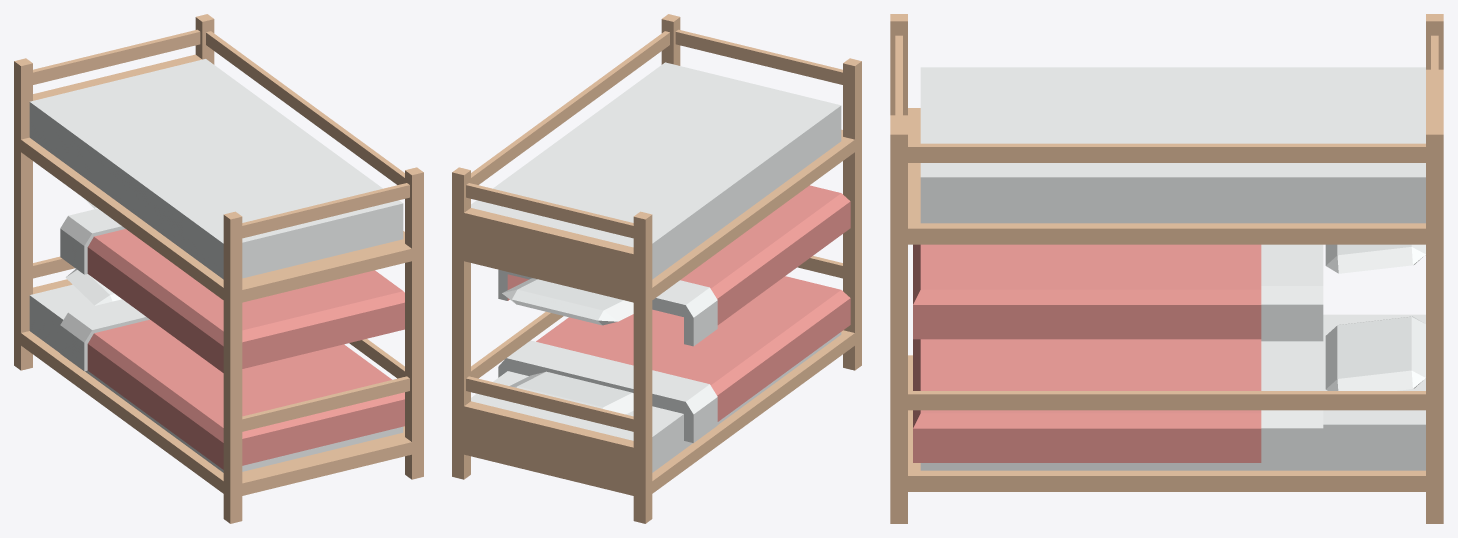
File: bedBunk.glb
The picture shows the model from 3 angles, left to right: view 1: azimuth 30°, elevation 25°; view 2: azimuth 150°, elevation 25°; view 3: azimuth 270°, elevation 25°; orthographic projection. The views are drawn at different scales.
Parts seen in each view (by area): view 1: bedBunk(Clone), coverBottom, coverTop, pillowBottom; view 2: bedBunk(Clone), coverBottom, coverTop, pillowTop, pillowBottom; view 3: bedBunk(Clone), coverBottom, coverTop, pillowBottom, pillowTop.
Part boxes in pixels (x1=…): bedBunk(Clone): x1=14, y1=14, x2=423, y2=523; coverBottom: x1=60, y1=299, x2=404, y2=469; coverTop: x1=60, y1=208, x2=404, y2=372; pillowBottom: x1=65, y1=269, x2=121, y2=305; bedBunk(Clone): x1=452, y1=14, x2=861, y2=523; coverBottom: x1=498, y1=276, x2=850, y2=442; coverTop: x1=498, y1=185, x2=850, y2=346; pillowTop: x1=502, y1=278, x2=633, y2=325; pillowBottom: x1=509, y1=371, x2=633, y2=414; bedBunk(Clone): x1=890, y1=14, x2=1443, y2=523; coverBottom: x1=913, y1=339, x2=1323, y2=464; coverTop: x1=913, y1=244, x2=1323, y2=341; pillowBottom: x1=1325, y1=316, x2=1425, y2=390; pillowTop: x1=1325, y1=244, x2=1425, y2=273.
Size of the model in its own units: 1.14 by 1.7 by 2.19.
